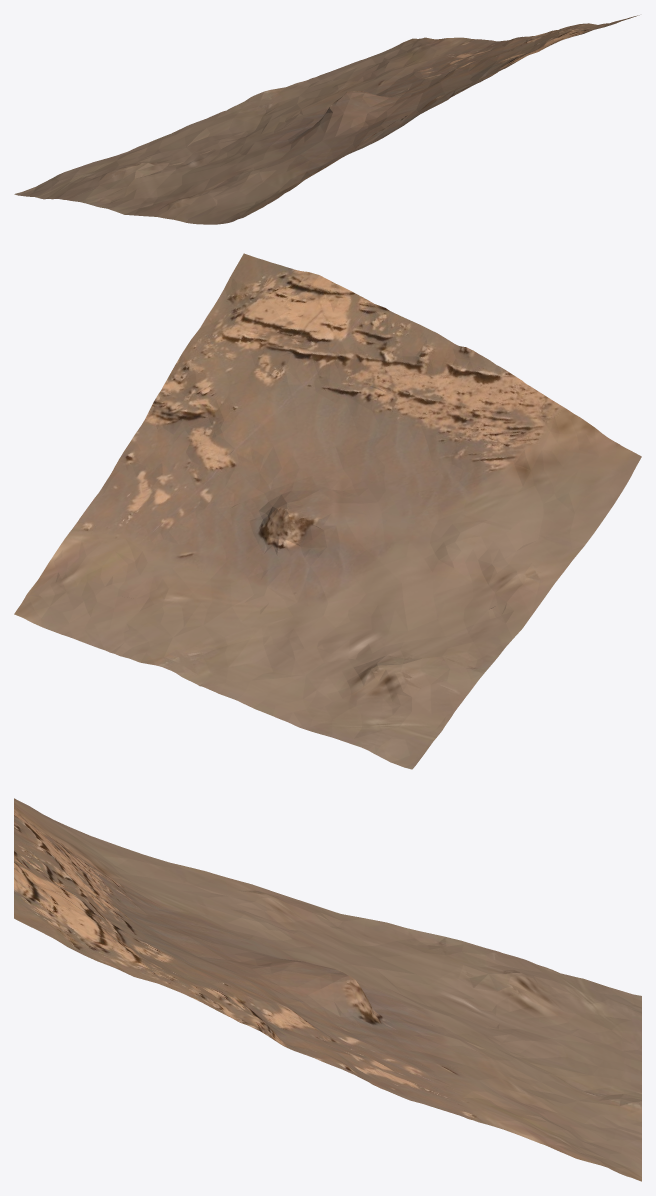
3 views of the same model, one above another, from view 1: azimuth 30°, elevation 25°; view 2: azimuth 150°, elevation 25°; view 3: azimuth 270°, elevation 25° (orthographic). The views are drawn at different scales.
Size of the model in its own units: 1.04 by 0.6292 by 1.04.
3 materials, 3 textured.
